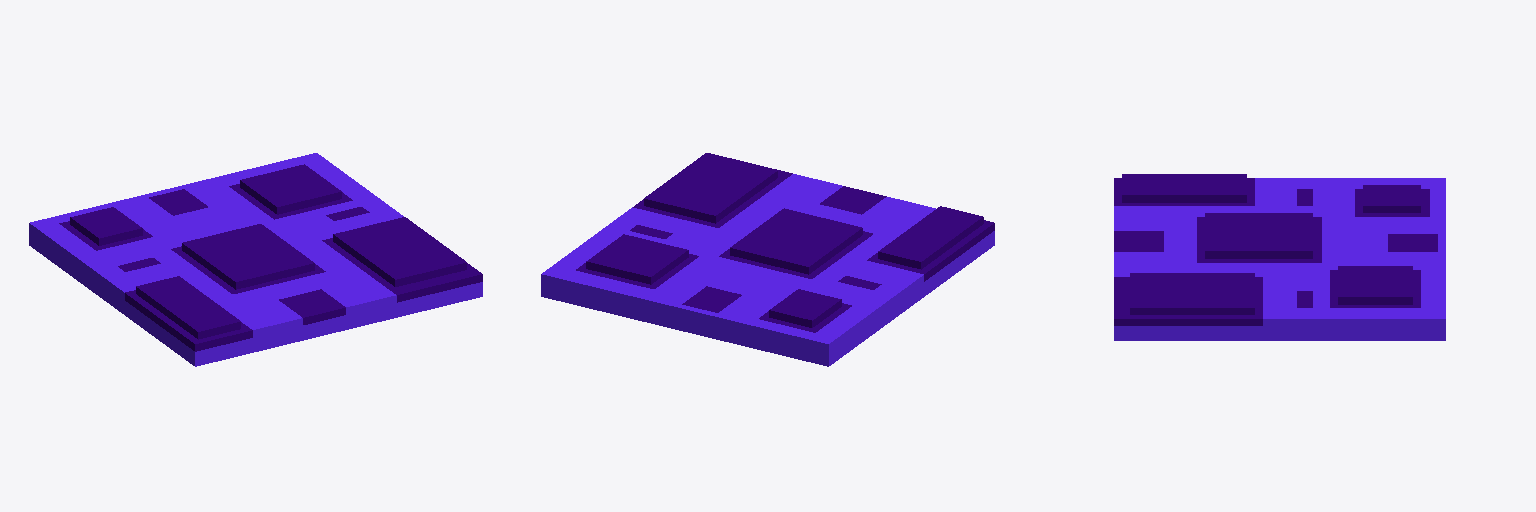
3 views of the same model, side by side, from view 1: azimuth 30°, elevation 25°; view 2: azimuth 150°, elevation 25°; view 3: azimuth 270°, elevation 25° (orthographic).
Visible parts, largest first — view 1: object 1; view 2: object 1; view 3: object 1.
Part boxes in pixels (bbox=[...]): object 1: bbox=[29, 153, 482, 366]; object 1: bbox=[541, 153, 994, 366]; object 1: bbox=[1114, 174, 1445, 340].
Bounding box in the file's own units: 4 × 0.4 × 4.
1 materials, 1 textured.